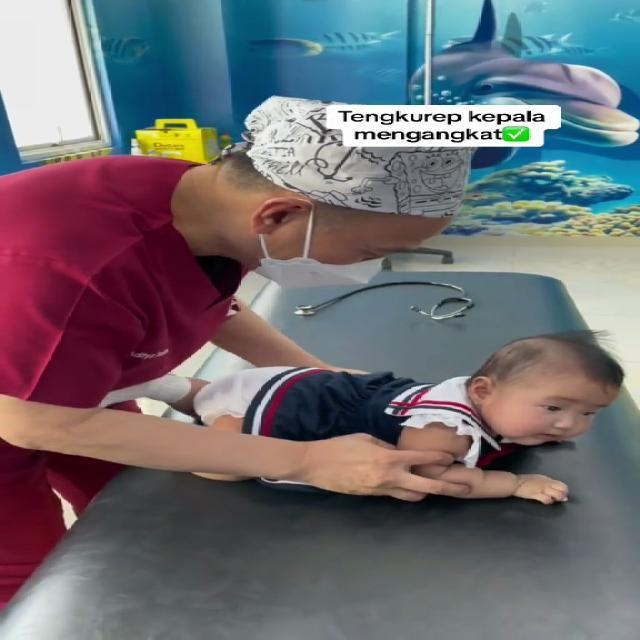baby: (91, 328, 639, 518)
